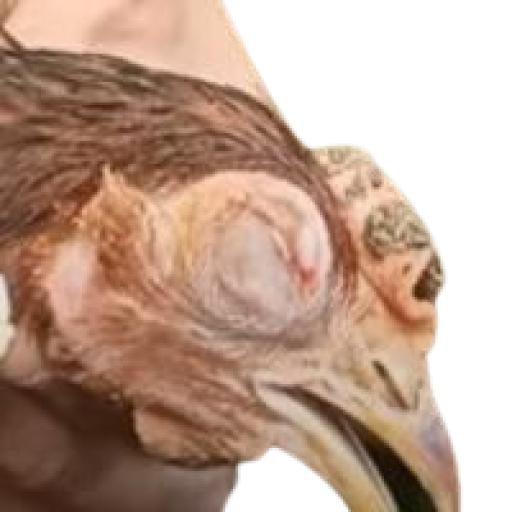disease: (313, 117, 457, 334), (182, 152, 319, 363)
